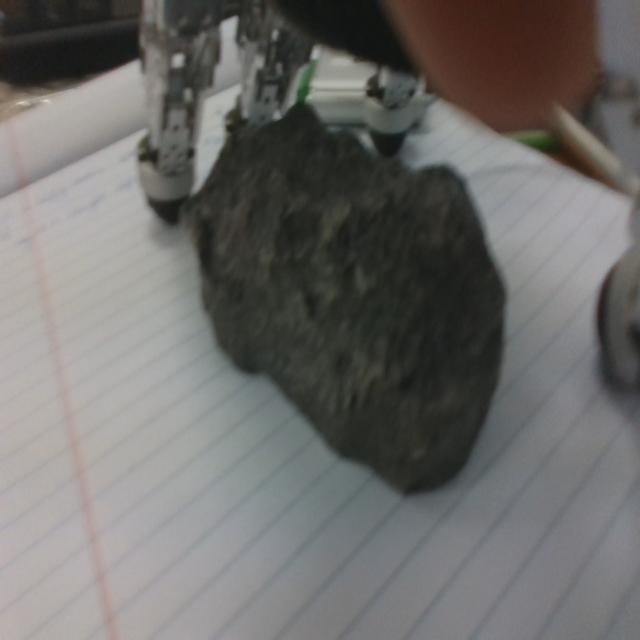stone: (178, 93, 508, 497)
